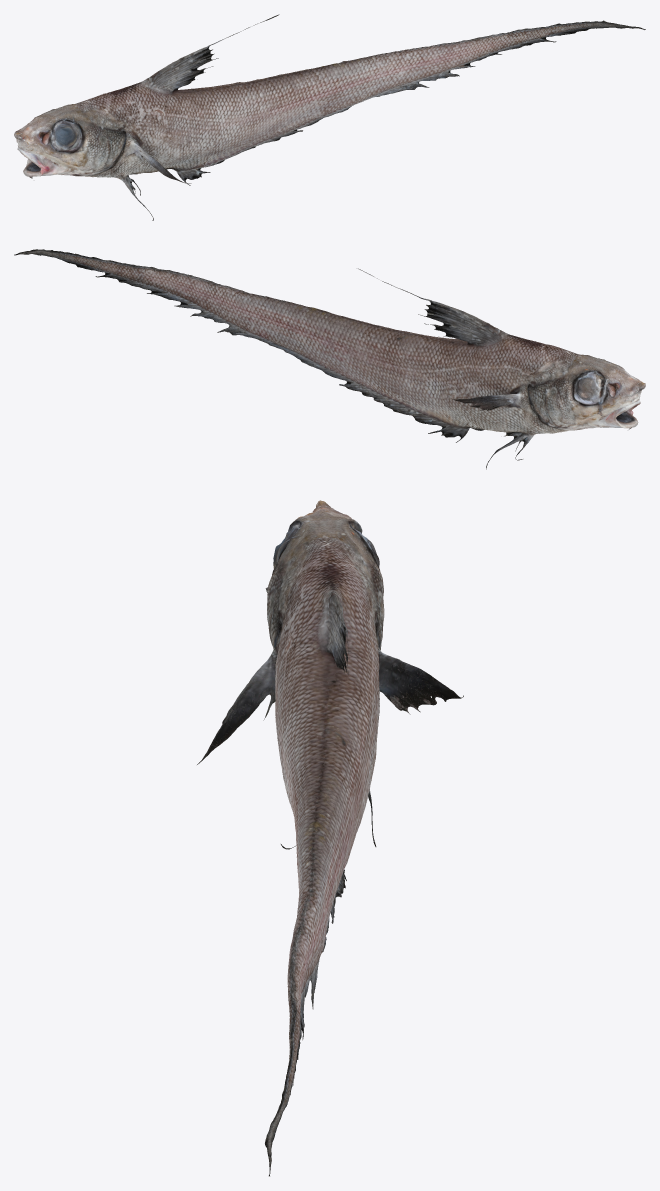
File: Grenedier.glb
3 renders of one model, top to bottom at view 1: azimuth 30°, elevation 25°; view 2: azimuth 150°, elevation 25°; view 3: azimuth 270°, elevation 25°, orthographic. The views are drawn at different scales.
Parts seen in each view (by area): view 1: Q11589-1all_5; view 2: Q11589-1all_5; view 3: Q11589-1all_5.
Part boxes in pixels (x1,y1,x2,y2): Q11589-1all_5: (14, 14, 645, 220); Q11589-1all_5: (14, 249, 645, 469); Q11589-1all_5: (197, 500, 463, 1176).
Bounding box in the file's own units: 19.23 × 4.77 × 3.61.
1 material, 1 textured.
